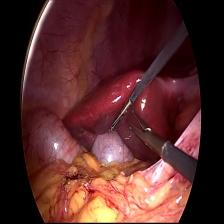Grasper: (125, 108, 167, 161), (106, 102, 128, 135)
